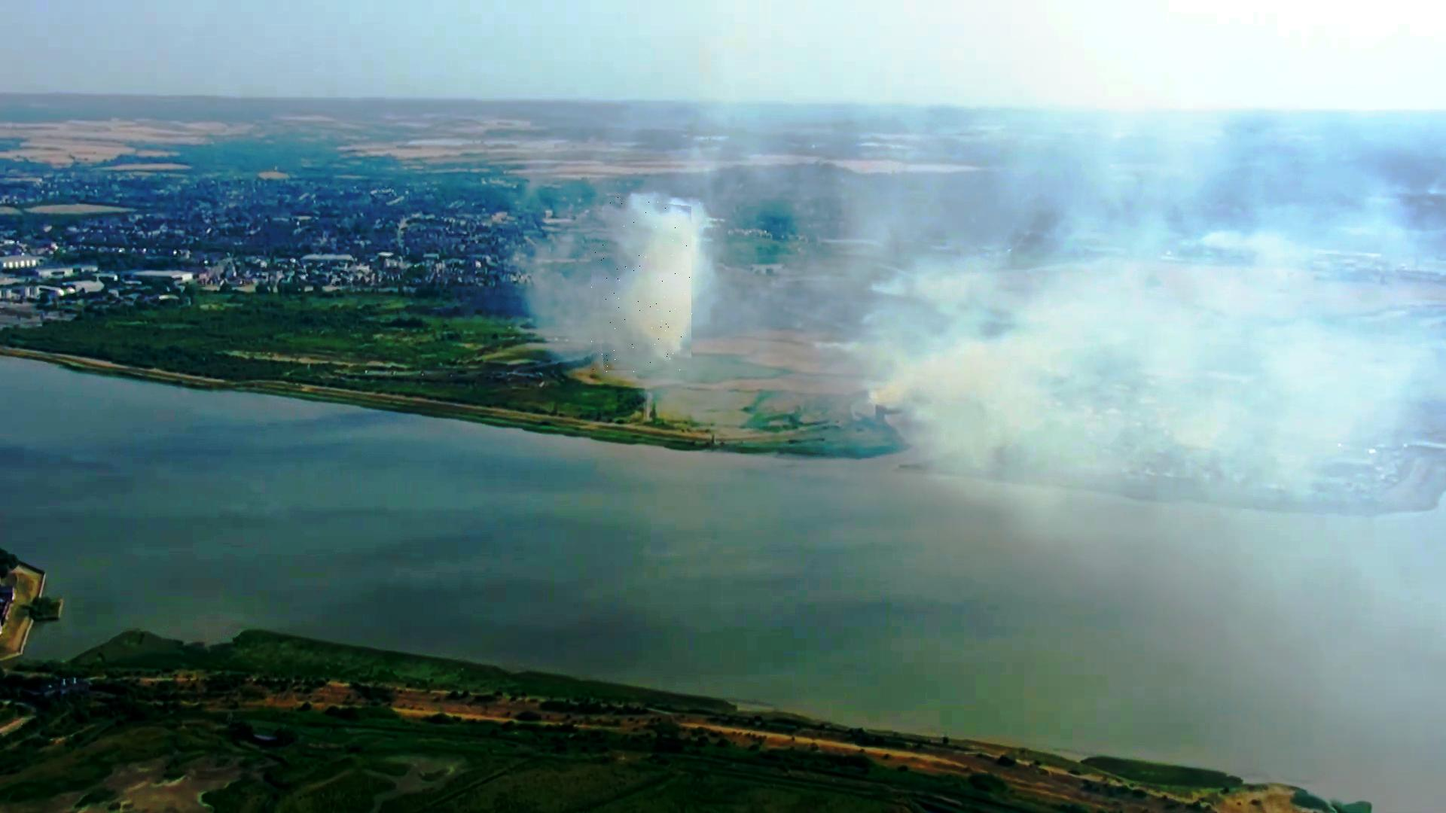smoke: (592, 198, 693, 372)
